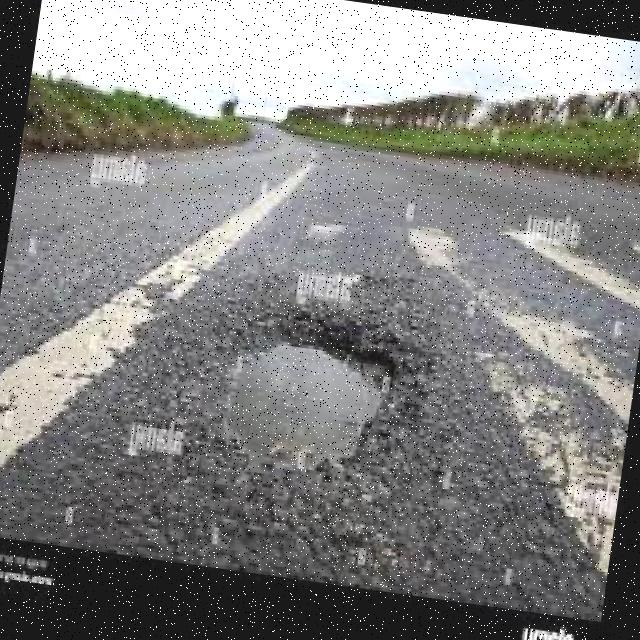pothole: (226, 344, 385, 473)
